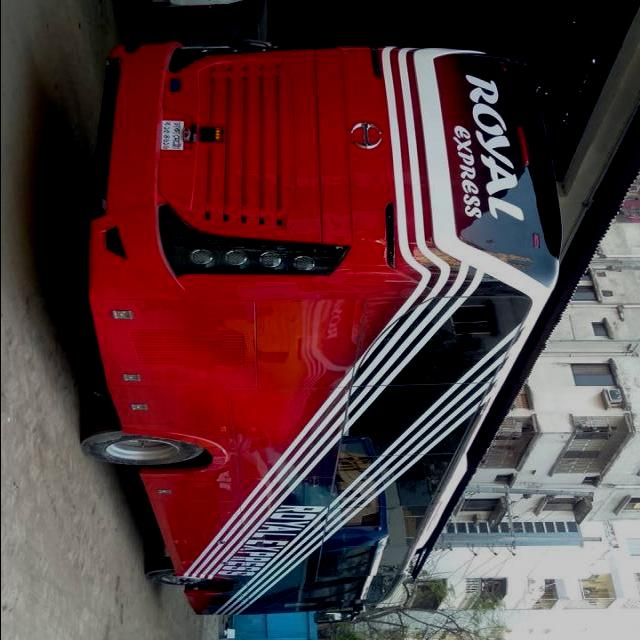bus: (78, 43, 564, 626)
